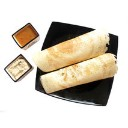dosa: (32, 30, 118, 93)
